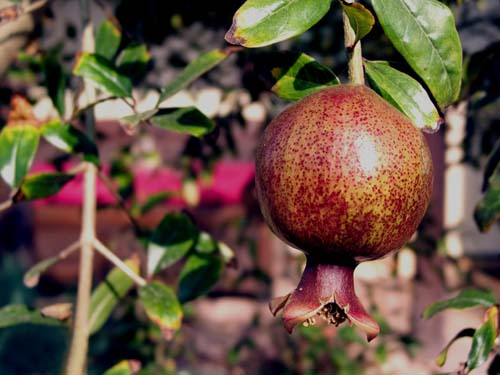pomogranate: (256, 82, 434, 343)
